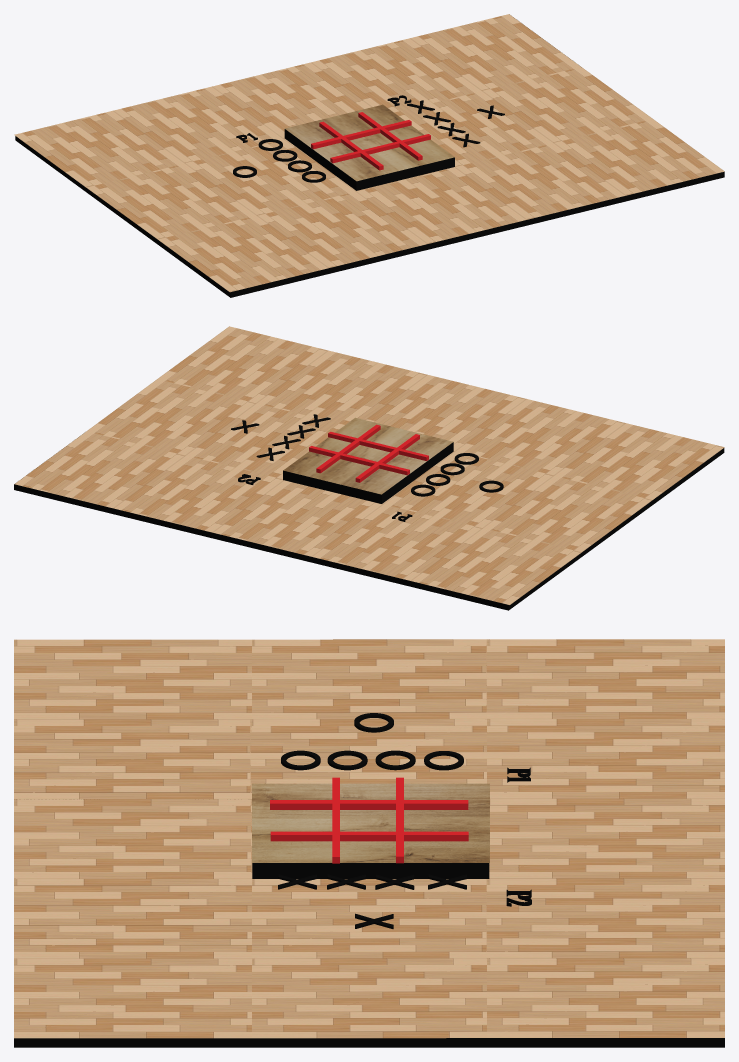
The model's file is tictactoeboard1.gltf.
The picture shows the model from 3 angles, top to bottom: view 1: azimuth 30°, elevation 25°; view 2: azimuth 150°, elevation 25°; view 3: azimuth 270°, elevation 25°; orthographic projection. The views are drawn at different scales.
Visible parts, largest first — view 1: Object_29, Object_33, Object_35, Object_39, Object_27, Object_17, Object_15, Object_37, Object_31, Object_19, Object_23, Object_13 (+9 smaller); view 2: Object_29, Object_39, Object_35, Object_33, Object_15, Object_23, Object_21, Object_19, Object_37, Object_31, Object_27, Object_13 (+7 smaller); view 3: Object_33, Object_39, Object_29, Object_23, Object_21, Object_27, Object_35, Object_37, Object_17, Object_15, Object_19, Object_31 (+10 smaller).
Boxes of the visible parts, x1,y1,x2,y2 form: Object_29: (14,110,184,187); Object_33: (158,215,328,292); Object_35: (410,14,580,90); Object_39: (554,119,724,195); Object_27: (455,143,625,219); Object_17: (356,167,526,243); Object_15: (257,191,427,267); Object_37: (483,67,652,142); Object_31: (86,163,256,239); Object_19: (113,86,283,163); Object_23: (311,38,481,112); Object_13: (185,139,355,215); Object_29: (411,528,581,604); Object_39: (157,326,327,403); Object_35: (14,431,184,508); Object_33: (554,423,724,499); Object_15: (455,399,625,475); Object_23: (113,455,283,532); Object_21: (213,480,382,556); Object_19: (312,504,482,580); Object_37: (86,379,255,455); Object_31: (483,476,652,551); Object_27: (256,350,426,424); Object_13: (383,451,553,527); Object_33: (14,639,251,719); Object_39: (14,958,251,1038); Object_29: (486,639,724,718); Object_23: (486,878,724,958); Object_21: (489,798,724,878); Object_27: (14,879,251,958); Object_35: (487,958,724,1037); Object_37: (252,958,486,1038); Object_17: (14,799,251,878); Object_15: (14,719,251,799); Object_19: (487,719,724,798); Object_31: (252,639,486,719).
Size of the model in its own units: 1.75 by 0.0653 by 1.32.
Materials: 26 (26 with a texture image).
